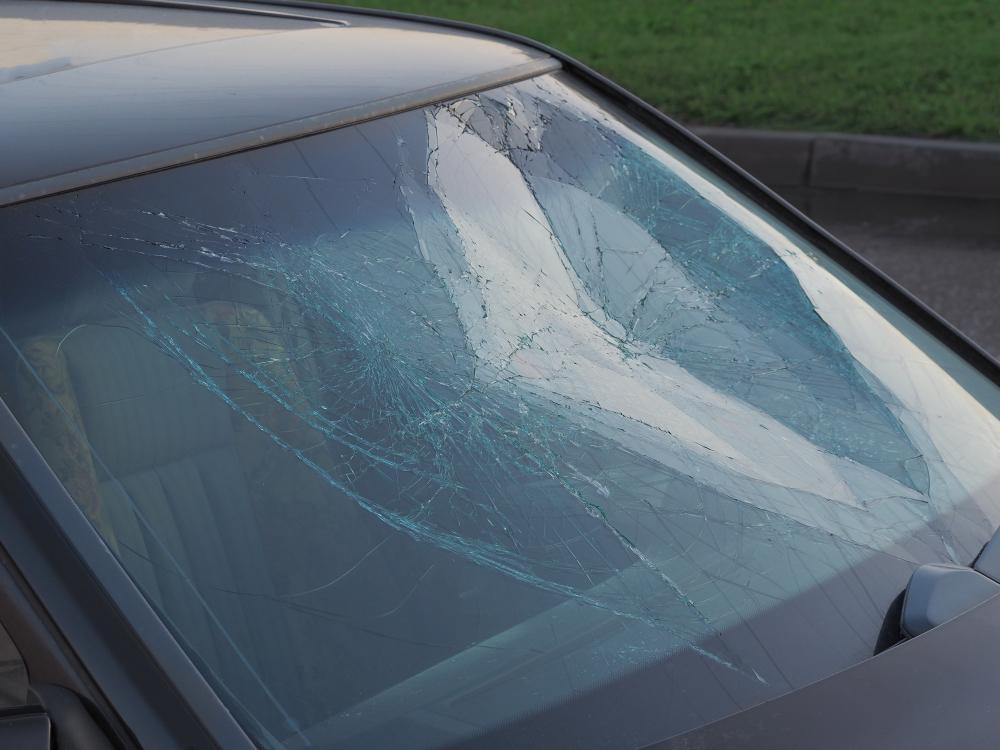glass shatter: (0, 72, 1000, 750)
